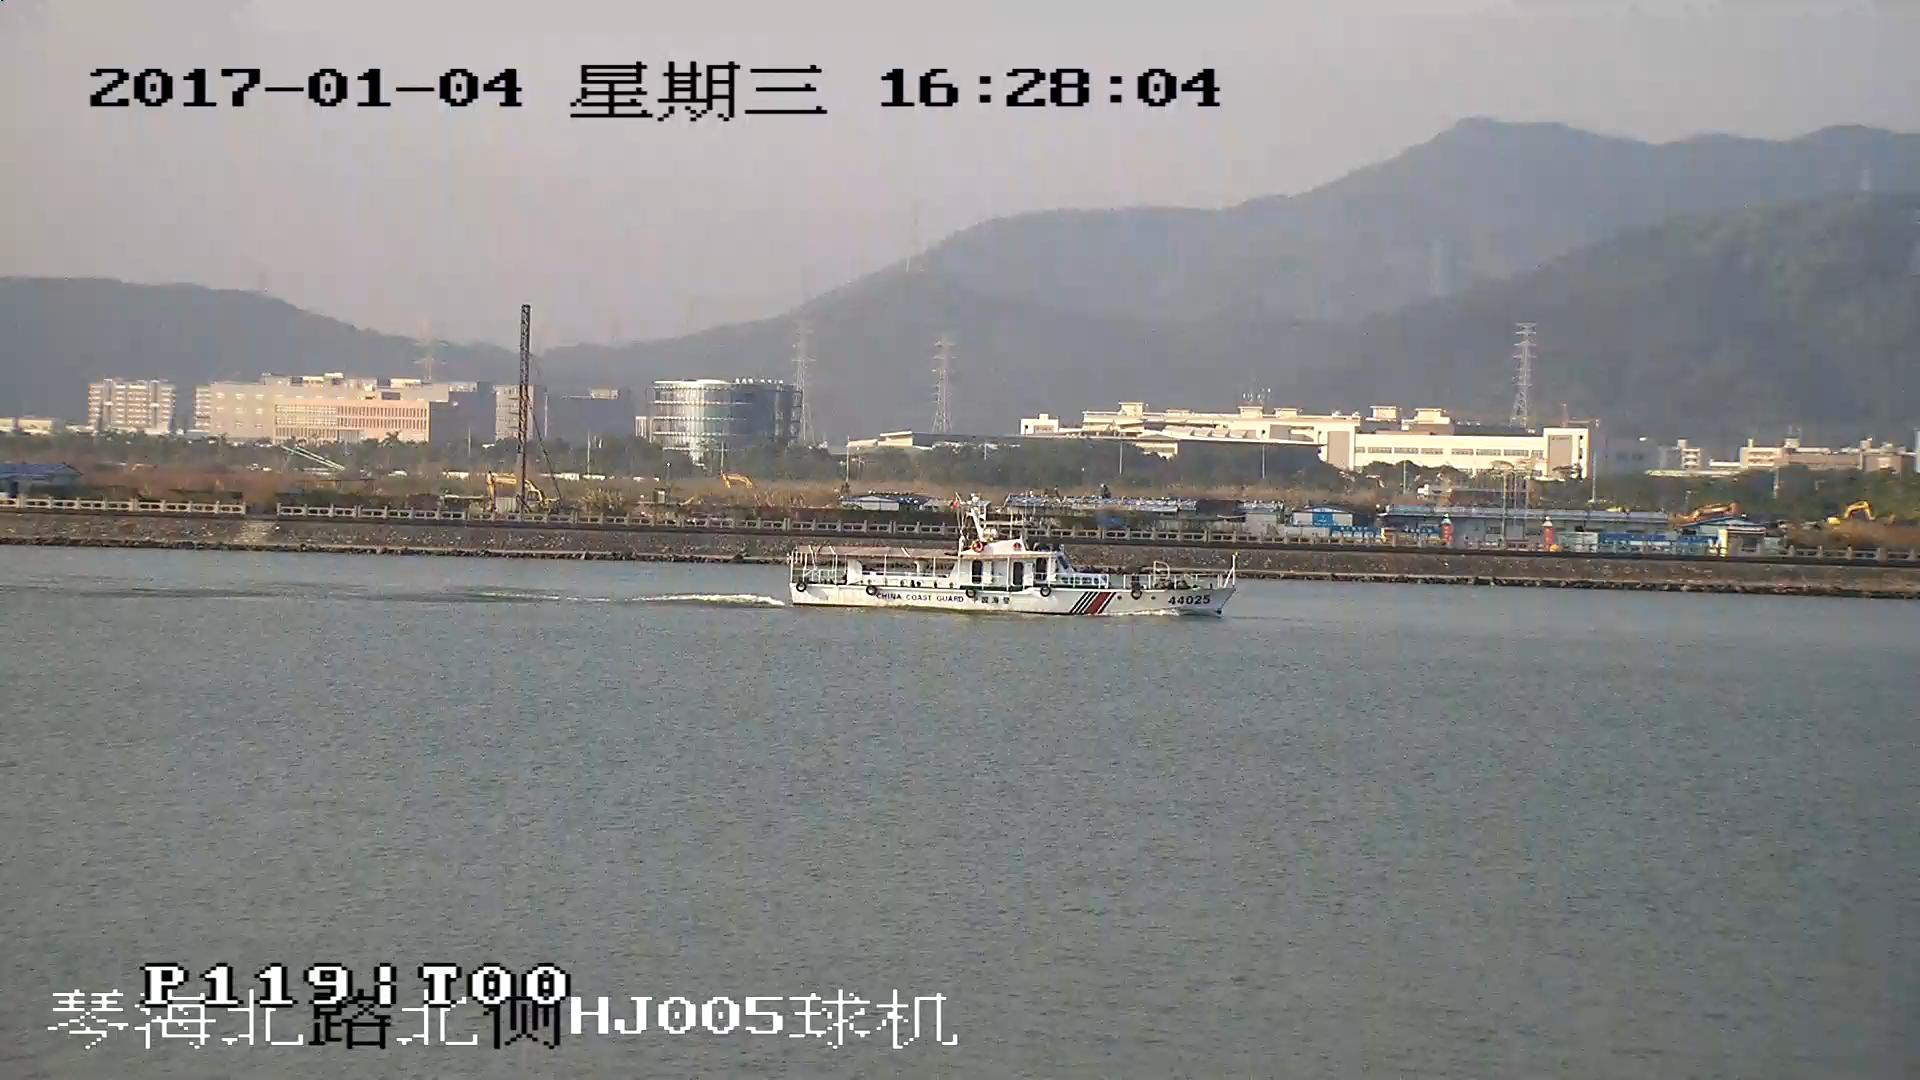passenger ship: (788, 502, 1240, 620)
